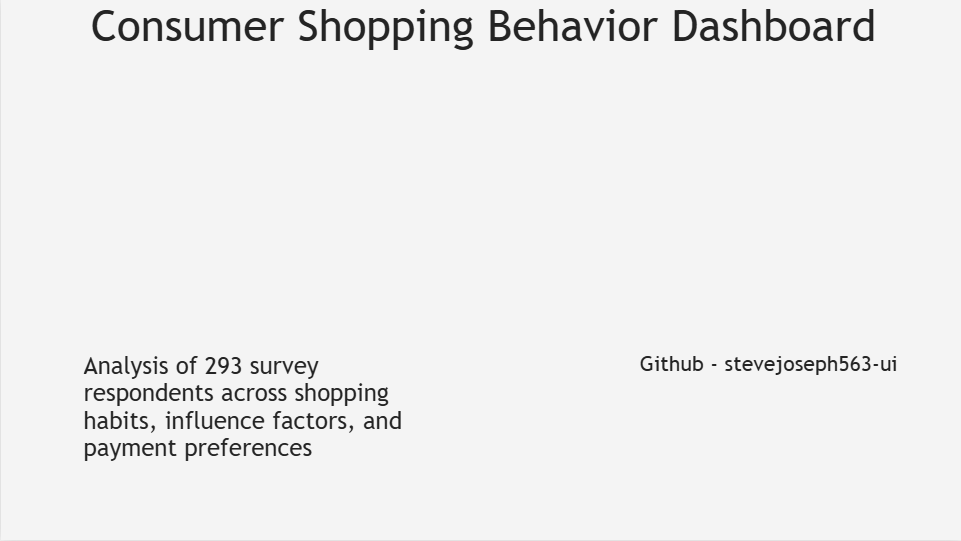

The page's visual inventory and layout, read from the dashboard file:
{"tool":"powerbi","page":{"name":"Introduction","canvas":[1920,1080],"ordinal":0},"visuals":[{"type":"textbox","box":[10,0,1910,1080],"z":0},{"type":"textbox","box":[166,702,660,230],"z":1},{"type":"textbox","box":[1278,702,546,230],"z":2}]}

Visuals, with their boxes in screenshot pixels (x1, y1, x2, y2), scaled from the page's 1920x1080 canvas onto the 961x541 screenshot:
textbox: bbox=(5, 0, 960, 540)
textbox: bbox=(83, 352, 413, 467)
textbox: bbox=(640, 352, 913, 467)
